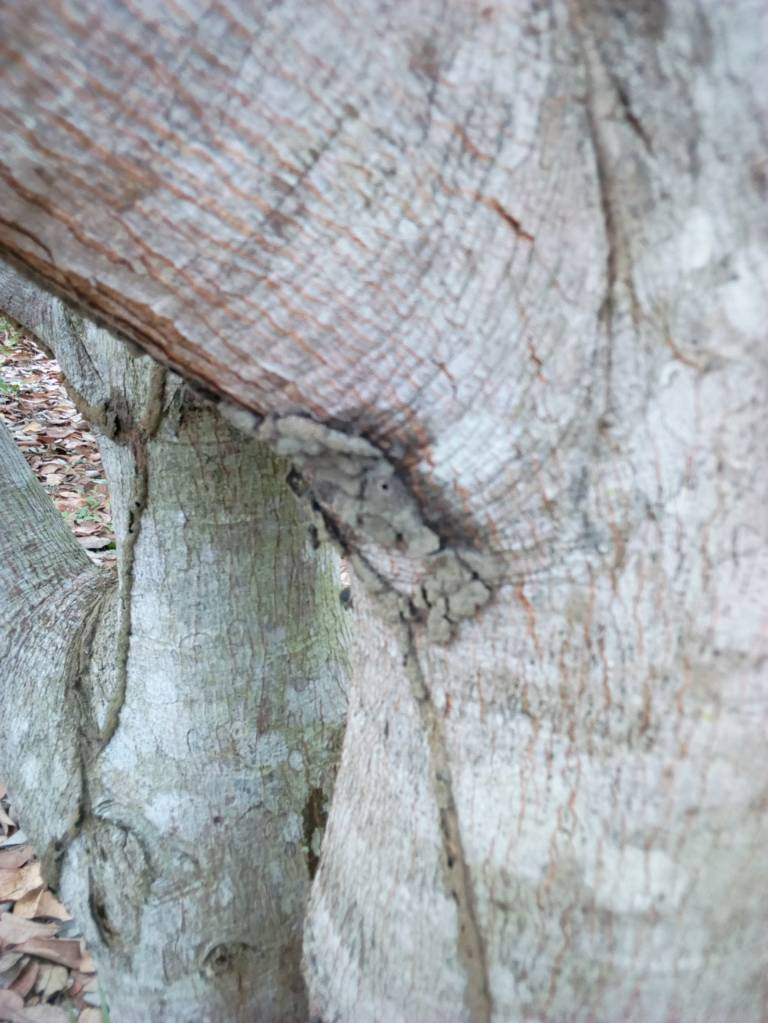Termites: (52, 446, 150, 844)
